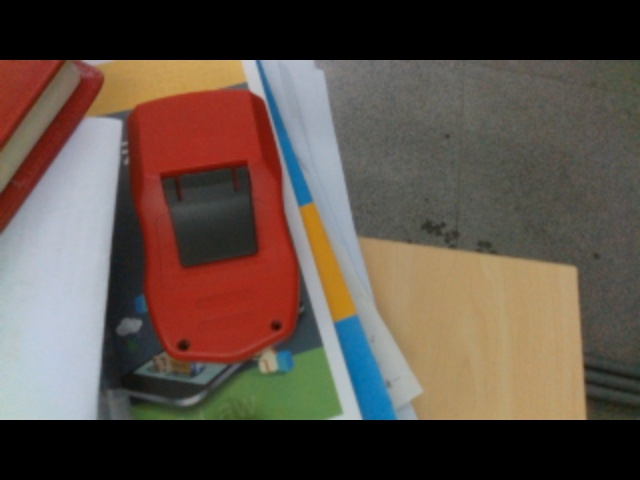Multimeter: (125, 88, 301, 362)
Screw holes: (268, 320, 284, 333), (177, 338, 190, 352)
